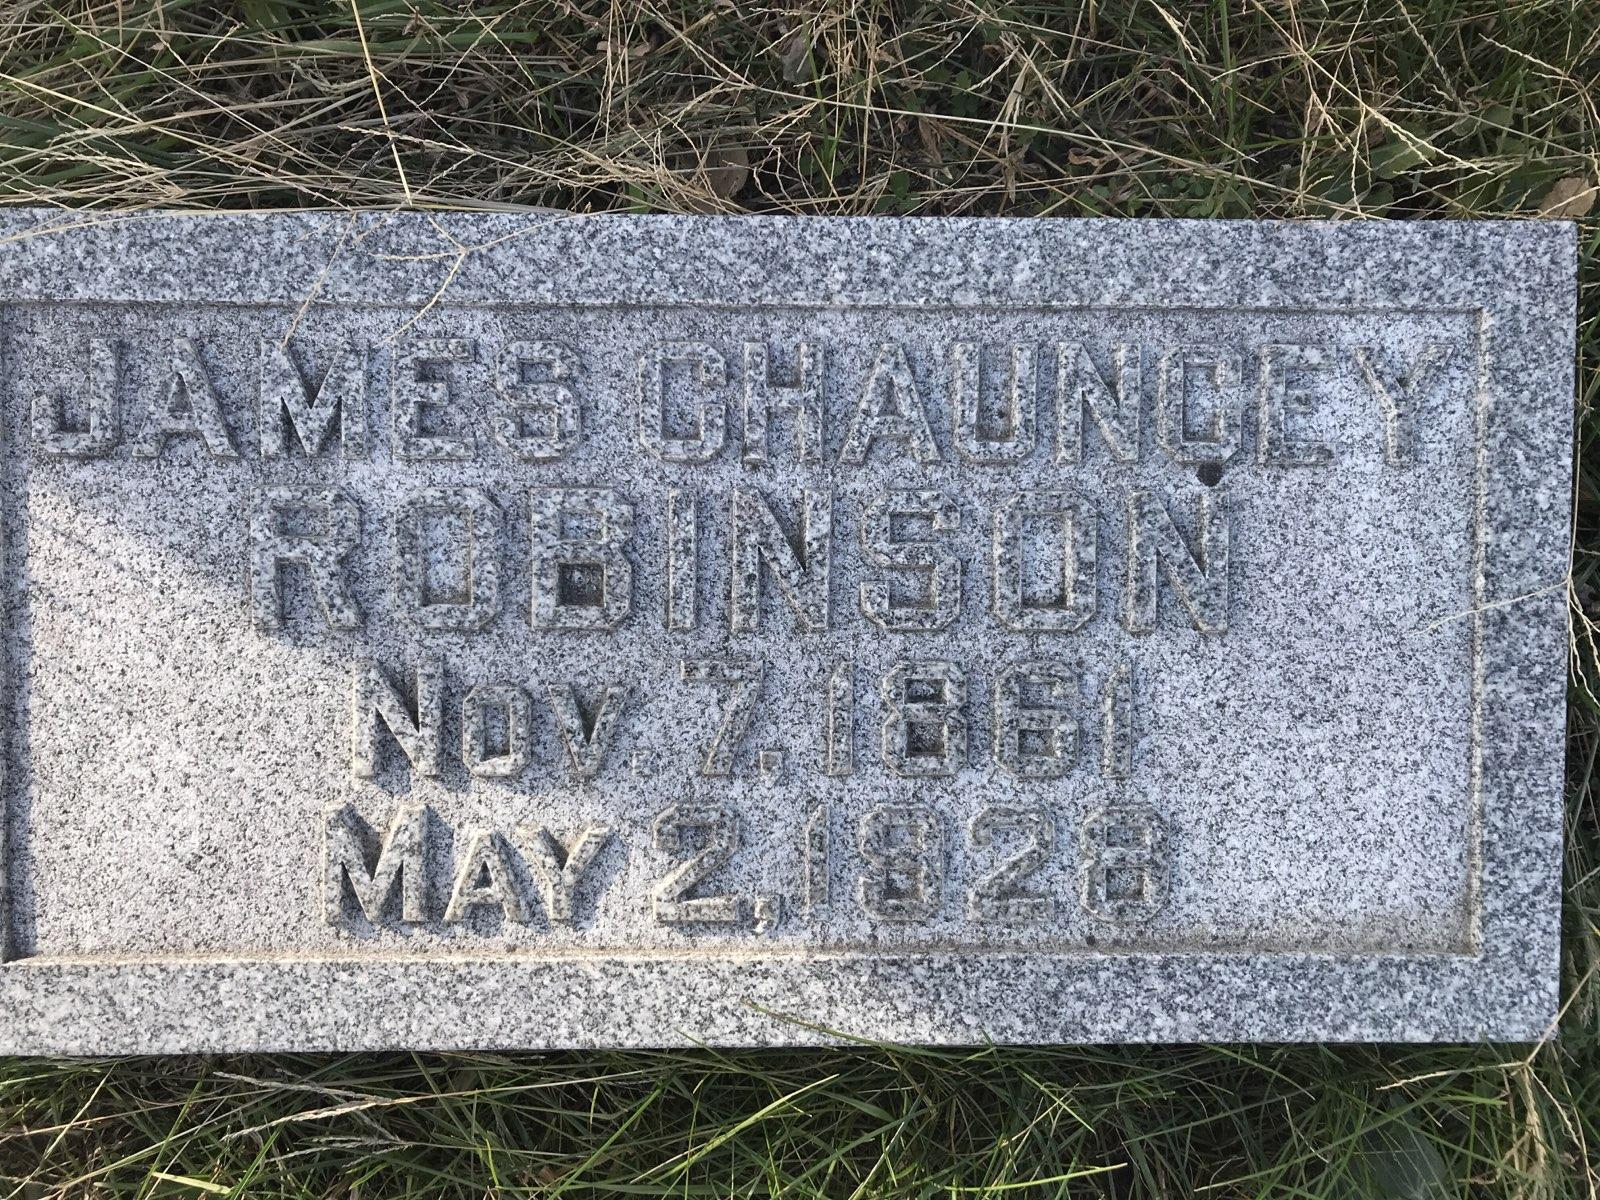flat: (0, 200, 1574, 1059)
